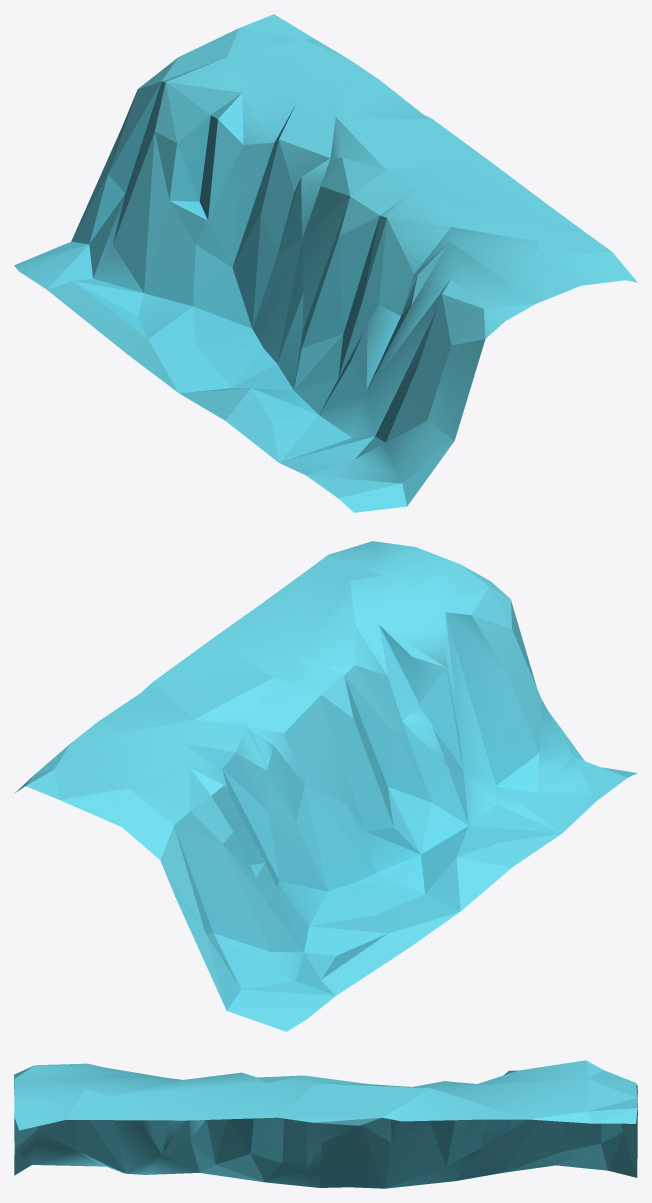
Rendered from Cliff_1.glb.
3 views of the same model, one above another, from view 1: azimuth 30°, elevation 25°; view 2: azimuth 150°, elevation 25°; view 3: azimuth 270°, elevation 25° (orthographic). The views are drawn at different scales.
Visible parts, largest first — view 1: SM_Env_Cliff_Straight_02; view 2: SM_Env_Cliff_Straight_02; view 3: SM_Env_Cliff_Straight_02.
Boxes of the visible parts, <box> form: SM_Env_Cliff_Straight_02: <box>14,14,637,512</box>; SM_Env_Cliff_Straight_02: <box>14,541,637,1031</box>; SM_Env_Cliff_Straight_02: <box>14,1060,637,1188</box>.
Size of the model in its own units: 16.46 by 10.16 by 34.46.
Materials: 1 (1 with a texture image).
